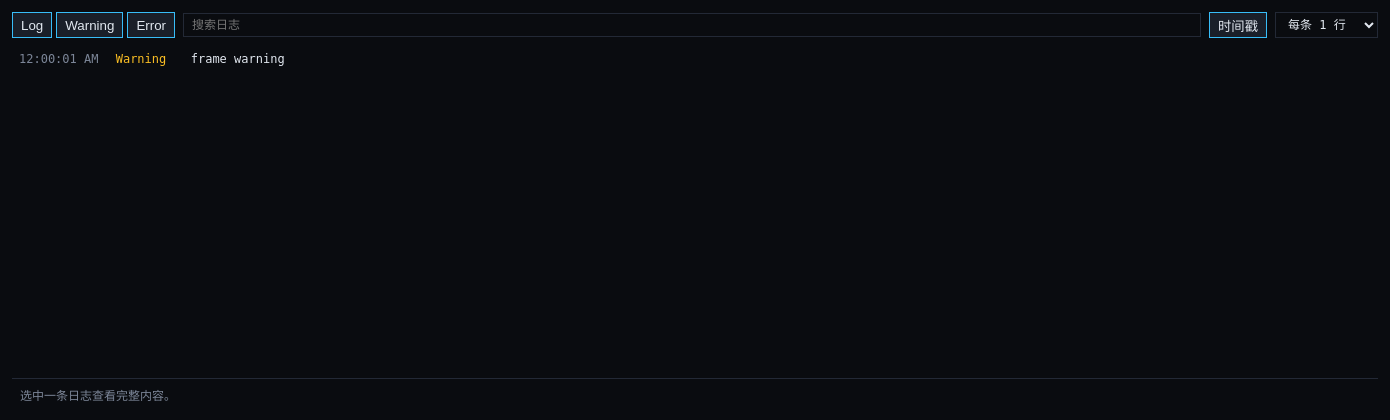
it: streams new Unity entries without replacing existing logs
Expected: the text "frame warning" is shown, [191,52,285,66]
Step 1. Click the button "12:00:01 AM Warning frame warning" → (59, 59), box [12,46,1378,72]
Wait 500 ms
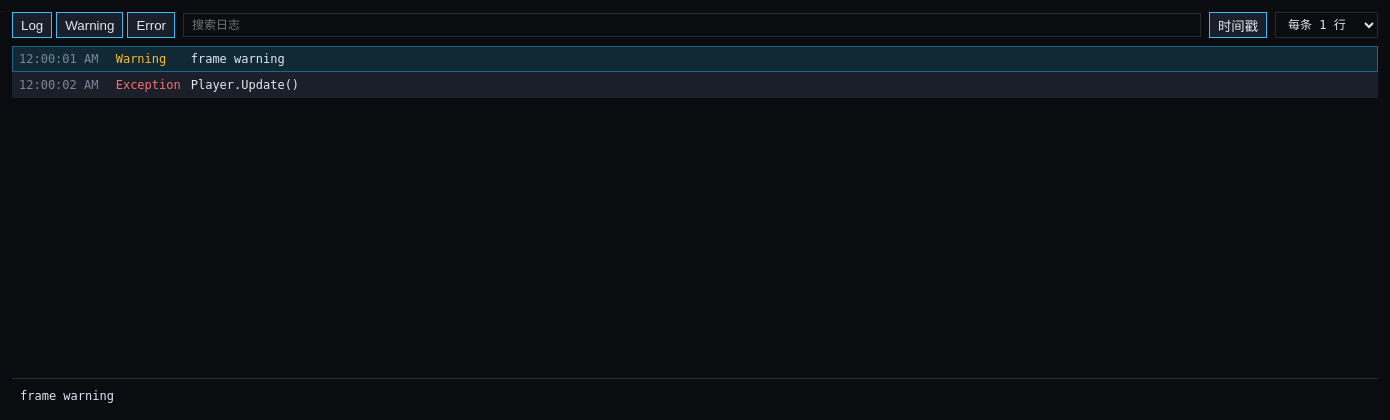
Expected: the text "Exception" is shown, [116,76,181,94]
Expected: the text "Player.Update()" is shown, [191,78,299,92]
Expected: the element named "日志详情" reads "frame warning", [20,389,114,403]
